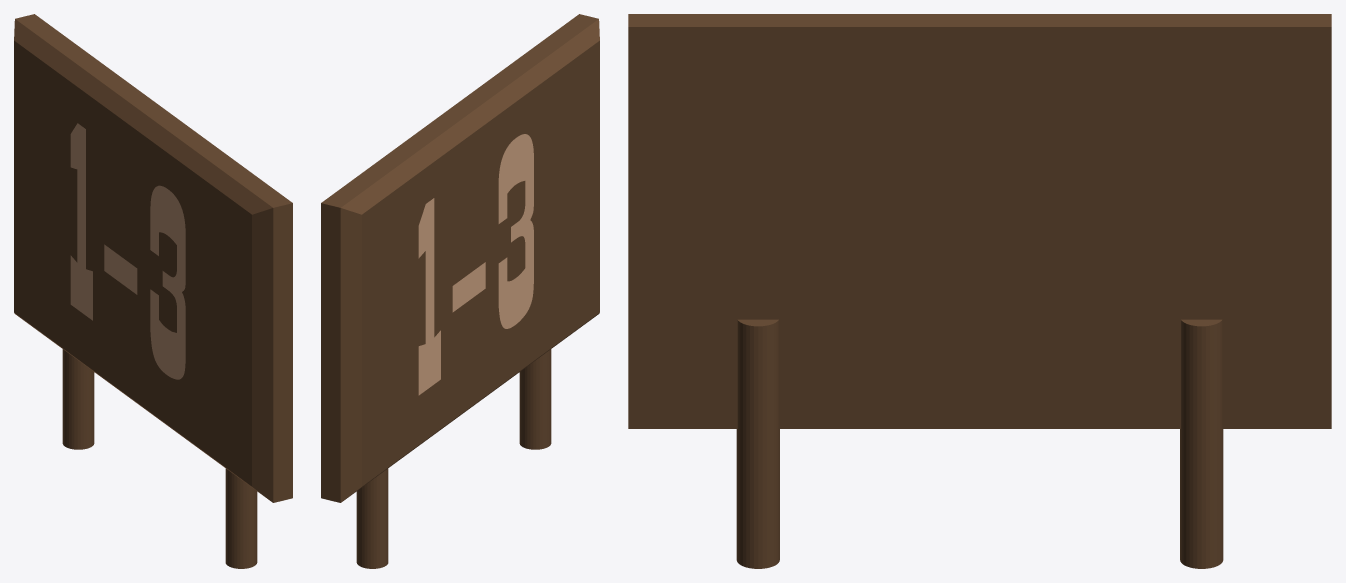
3 renders of one model, left to right at view 1: azimuth 30°, elevation 25°; view 2: azimuth 150°, elevation 25°; view 3: azimuth 270°, elevation 25°, orthographic. The views are drawn at different scales.
Parts seen in each view (by area): view 1: Cube.007, Text, Cylinder, Cylinder.001; view 2: Cube.007, Text, Cylinder.001, Cylinder; view 3: Cube.007, Cylinder, Cylinder.001.
Boxes of the visible parts, bbox=[...] form: Cube.007: bbox=[14, 14, 292, 502]; Text: bbox=[70, 123, 185, 379]; Cylinder: bbox=[62, 349, 94, 449]; Cylinder.001: bbox=[225, 468, 257, 568]; Cube.007: bbox=[321, 14, 599, 502]; Text: bbox=[418, 134, 533, 395]; Cylinder.001: bbox=[519, 349, 551, 449]; Cylinder: bbox=[356, 468, 388, 568]; Cube.007: bbox=[628, 14, 1331, 428]; Cylinder: bbox=[1180, 319, 1223, 568]; Cylinder.001: bbox=[736, 319, 779, 568].
Bounding box in the file's own units: 28.97 × 266 × 317.
